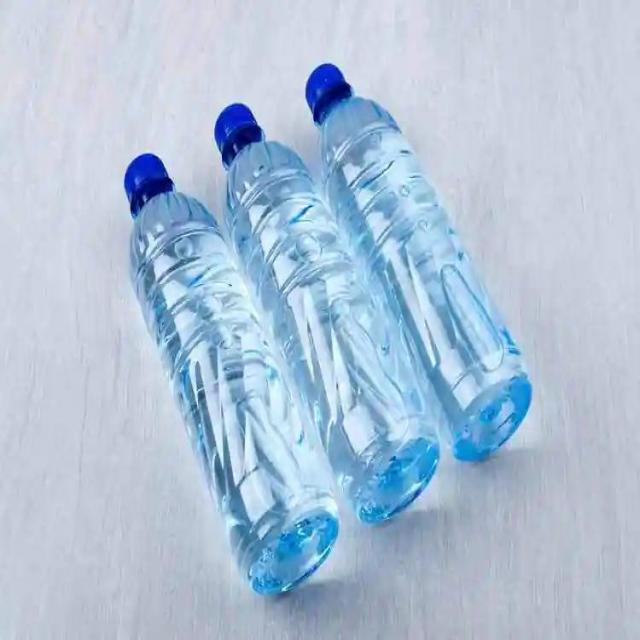bottle: (112, 146, 330, 624)
